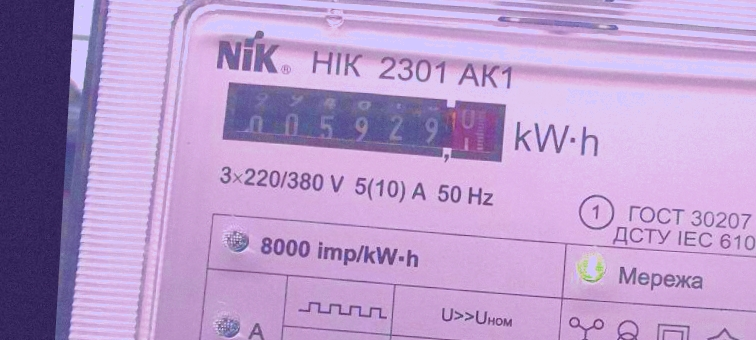0: (281, 109, 301, 138), (244, 109, 266, 133), (457, 106, 478, 130)
2: (384, 110, 405, 144)
5: (316, 111, 335, 140)
9: (348, 112, 371, 143), (420, 113, 441, 146), (250, 89, 269, 108)
screen: (214, 75, 514, 171)
